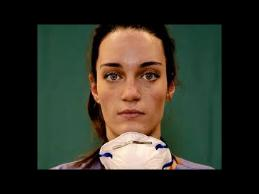mask_weared_incorrect: (99, 58, 165, 152)
